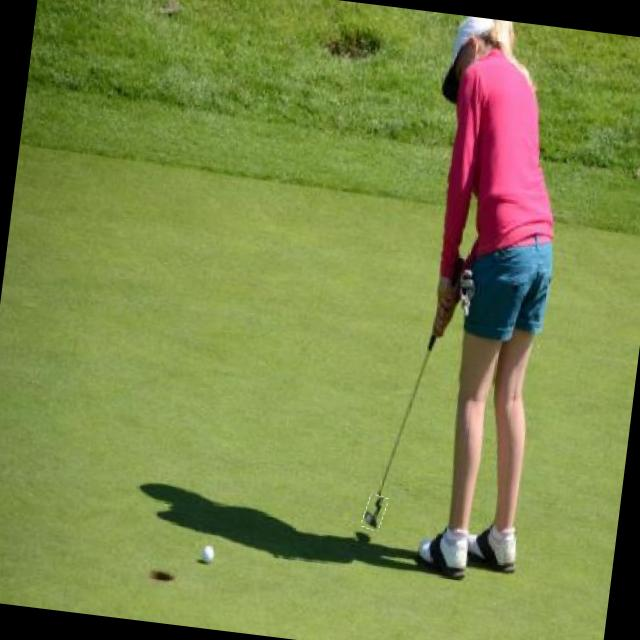club head: (361, 493, 387, 531)
